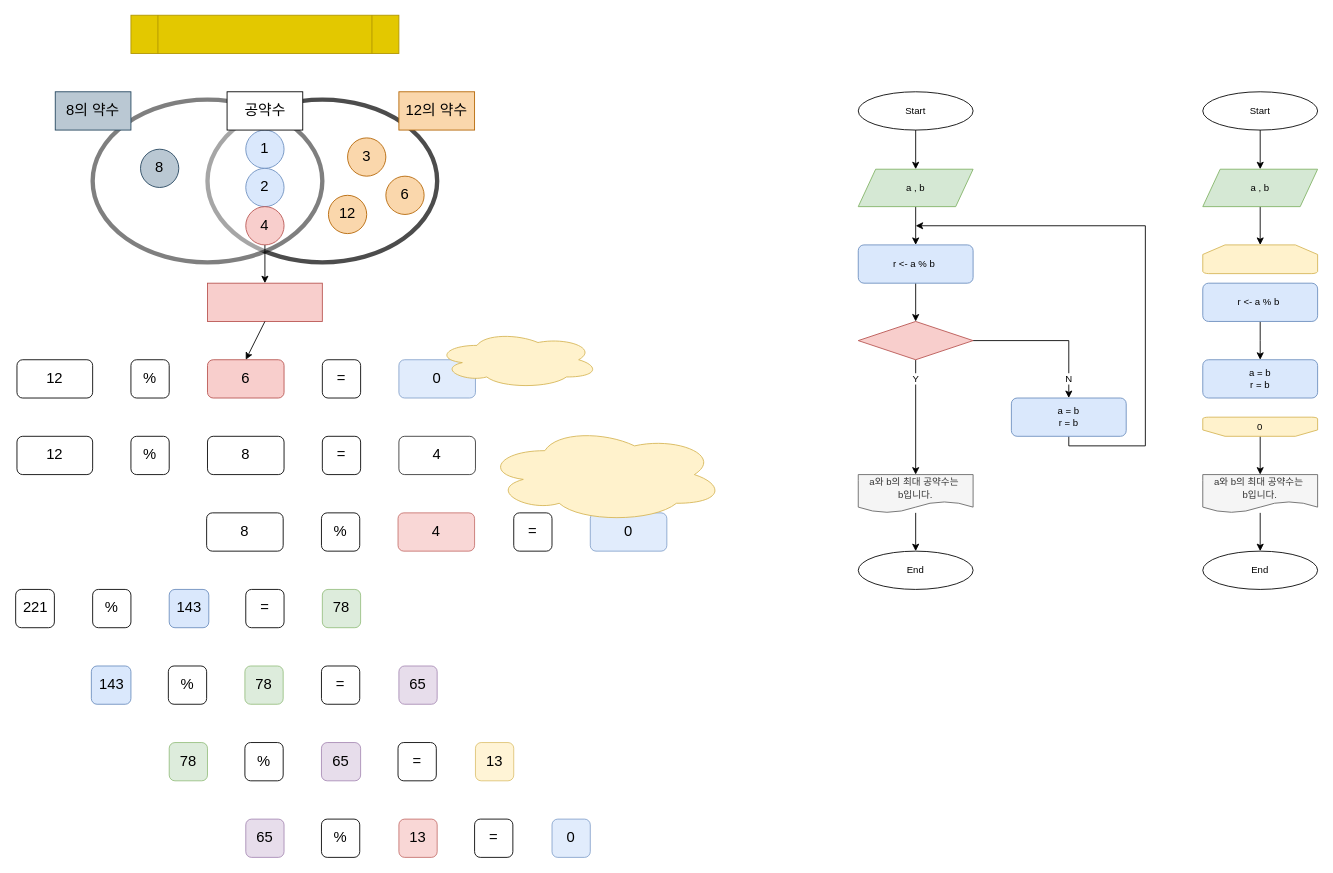
Some shapes in this 1333 by 873 pixel diagram are drawn without their labels. The shapes that lost their labels are listed below. From the top down, each one's centre as x and y in pixels, then its label:
At (x=264, y=34): "Euclidean Algorithms".
At (x=1260, y=259): "r != 0".
At (x=264, y=301): "최대 공약수".
At (x=517, y=359): "나머지가 없다면 나누는데 사용된 수가 최대 공약수 이다.".
At (x=915, y=340): "r = 0".
At (x=604, y=474): "나머지가 있다면 작은수와 나머지를 나누는 것을 반복한다. 그러다 나머지가 0 이면 마지막에 사용된 수가 최대 공약수 이다.".
